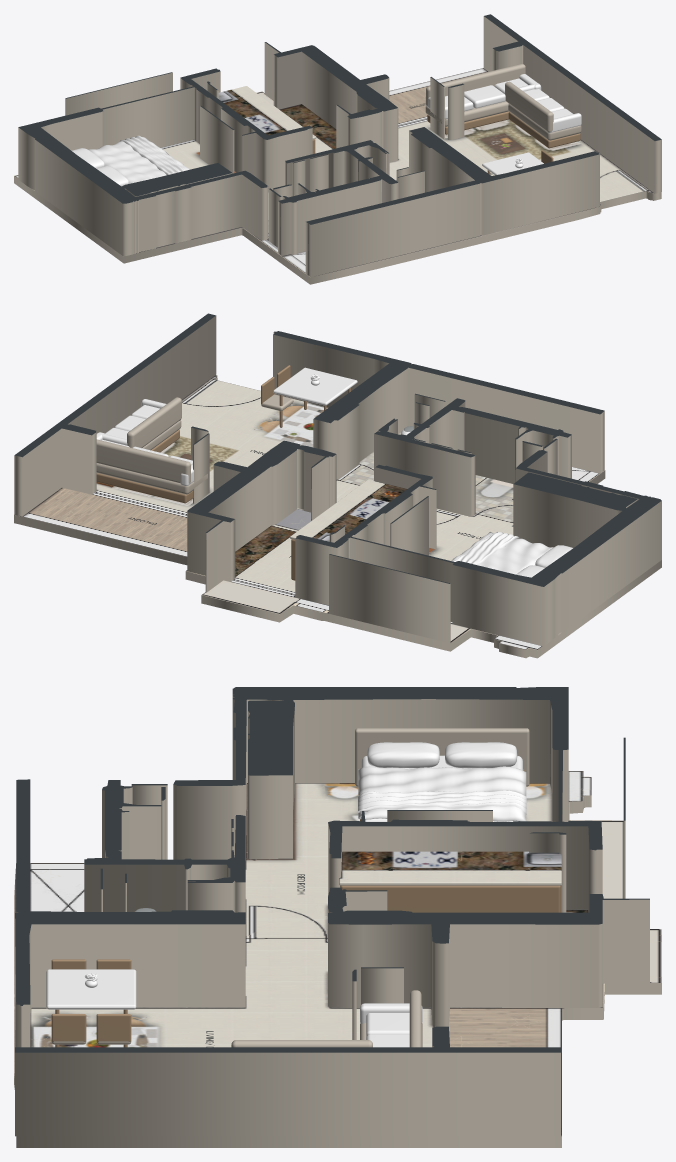
3 renders of one model, top to bottom at view 1: azimuth 30°, elevation 25°; view 2: azimuth 150°, elevation 25°; view 3: azimuth 270°, elevation 25°, orthographic. The views are drawn at different scales.
Parts seen in each view (by area): view 1: Partition walls, Apartment floor, Stone worktop, Draped bed linen, Sofa back.001, Sofa back, Draped bed linen.001, Marble dining top, Seat cushion.001, Upholstered sofa frame, Upholstered sofa frame.001, Sofa plinth.001 (+1 smaller); view 2: Partition walls, Apartment floor, Stone worktop, Sofa back, Marble dining top, Draped bed linen, Sofa back.001, Upholstered sofa frame, Sofa plinth, Draped bed linen.001; view 3: Partition walls, Apartment floor, Stone worktop, Draped bed linen, Kitchen cabinets, Marble dining top, Upholstered headboard, Draped bed linen.001, Tailored pillow, Tailored pillow.001, Sofa back.001, Chair back.002 (+3 smaller).
Part boxes in pixels (x1,y1,x2,y2): Partition walls: (18,14,661,276); Apartment floor: (14,68,661,284); Stone worktop: (218,86,316,139); Draped bed linen: (88,137,189,183); Sofa back.001: (505,81,553,132); Sofa back: (426,64,525,105); Draped bed linen.001: (119,135,185,175); Marble dining top: (482,152,543,175); Seat cushion.001: (464,85,505,108); Upholstered sofa frame: (425,101,508,126); Upholstered sofa frame.001: (508,104,581,140); Sofa plinth.001: (508,111,580,148); Partition walls: (14,313,661,646); Apartment floor: (14,375,661,658); Stone worktop: (290,479,407,541); Sofa back: (96,439,190,483); Marble dining top: (273,367,357,405); Draped bed linen: (451,532,553,574); Sofa back.001: (127,397,181,447); Upholstered sofa frame: (96,463,207,494); Sofa plinth: (96,473,192,503); Draped bed linen.001: (453,532,519,565); Partition walls: (15,687,649,1136); Apartment floor: (14,771,661,1147); Stone worktop: (339,851,561,885); Draped bed linen: (358,766,526,821); Kitchen cabinets: (340,885,560,912); Marble dining top: (46,969,136,1009); Upholstered headboard: (355,728,529,786); Draped bed linen.001: (358,790,526,814); Tailored pillow: (367,742,439,768); Tailored pillow.001: (444,742,517,768); Sofa back.001: (231,1040,372,1047); Chair back.002: (51,1014,86,1041).
Size of the model in its own units: 10.72 by 1.3 by 8.02.
10 materials, 1 textured.
